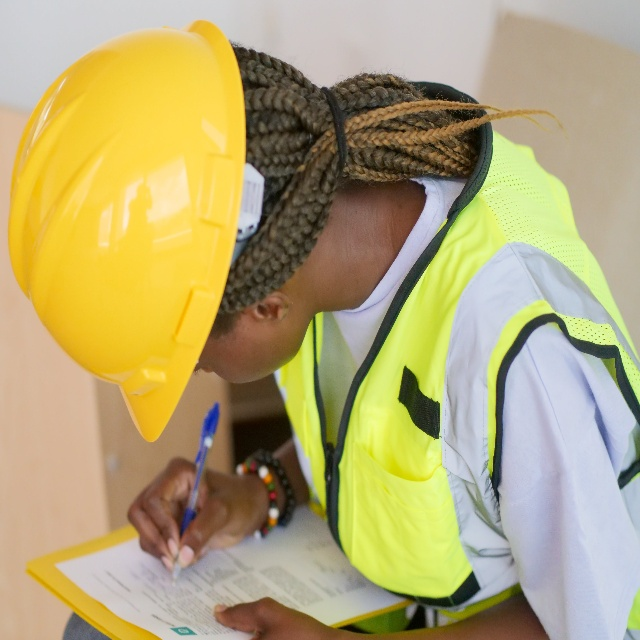Sin_guantes: (125, 450, 259, 571), (214, 597, 312, 640)
